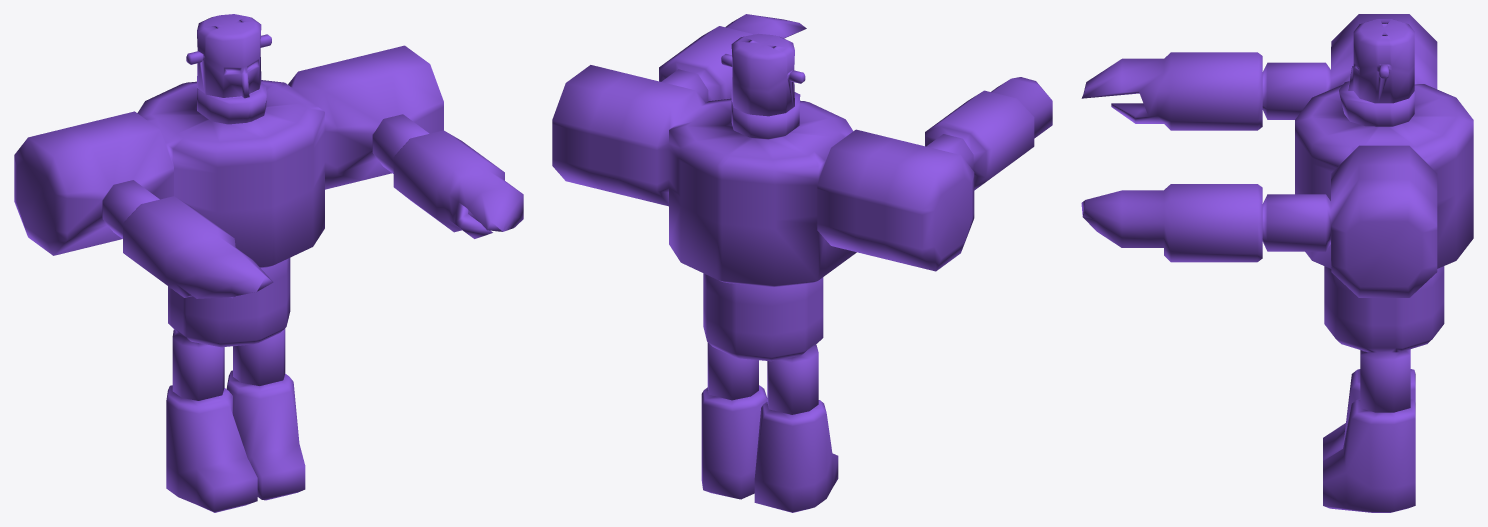
File: Frankenmallow's Monster.obj
The picture shows the model from 3 angles, left to right: view 1: azimuth 30°, elevation 25°; view 2: azimuth 150°, elevation 25°; view 3: azimuth 270°, elevation 25°; orthographic projection.
Parts seen in each view (by area): view 1: Frankenmallow_s_Monster; view 2: Frankenmallow_s_Monster; view 3: Frankenmallow_s_Monster.
Boxes of the visible parts, x1,y1,x2,y2 form: Frankenmallow_s_Monster: (14, 14, 523, 512); Frankenmallow_s_Monster: (552, 14, 1052, 512); Frankenmallow_s_Monster: (1081, 14, 1473, 512).
Size of the model in its own units: 215 by 244 by 189.
